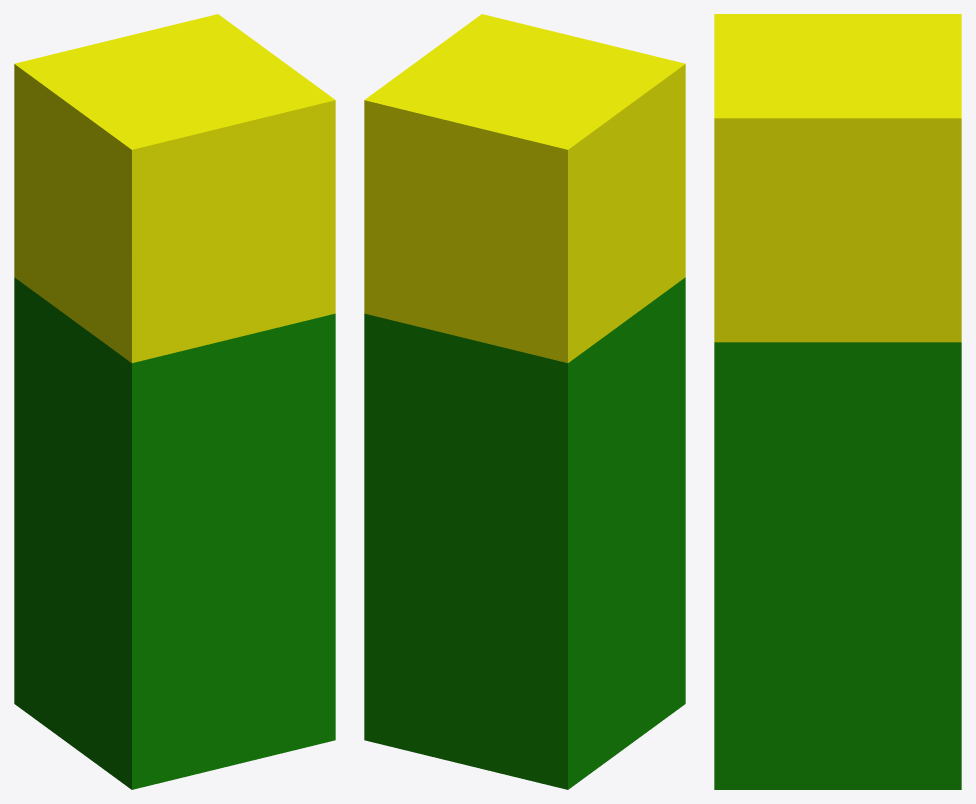
File: (0) Sunflower (Stage 2).obj
3 views of the same model, side by side, from view 1: azimuth 30°, elevation 25°; view 2: azimuth 150°, elevation 25°; view 3: azimuth 270°, elevation 25° (orthographic). The views are drawn at different scales.
Size of the model in its own units: 0.1 by 0.3 by 0.1.
1 material, 1 textured.
